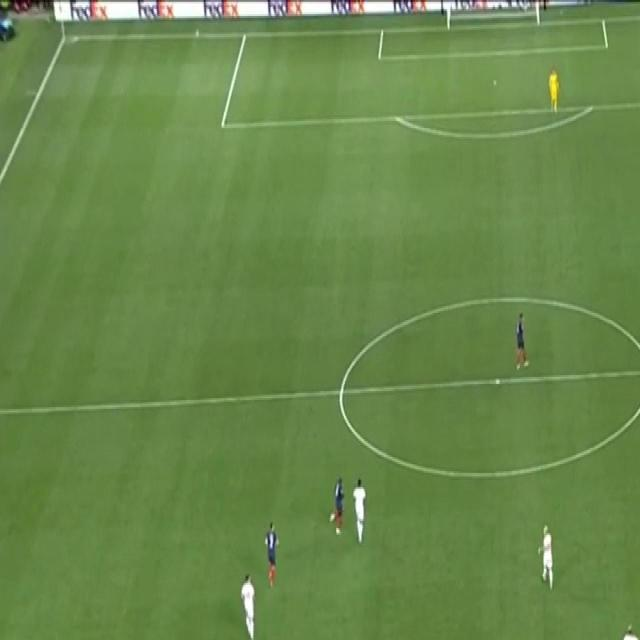player-white: (536, 521, 556, 595), (263, 516, 281, 596), (237, 570, 257, 640), (350, 475, 369, 546), (326, 475, 346, 537), (513, 310, 530, 374), (546, 62, 561, 116), (621, 620, 640, 640), (367, 636, 387, 640)
